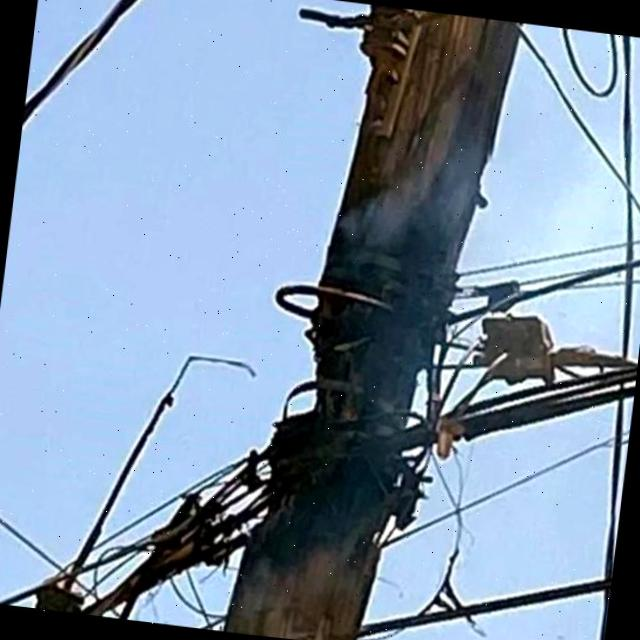Broken Pole: (101, 7, 639, 632)
